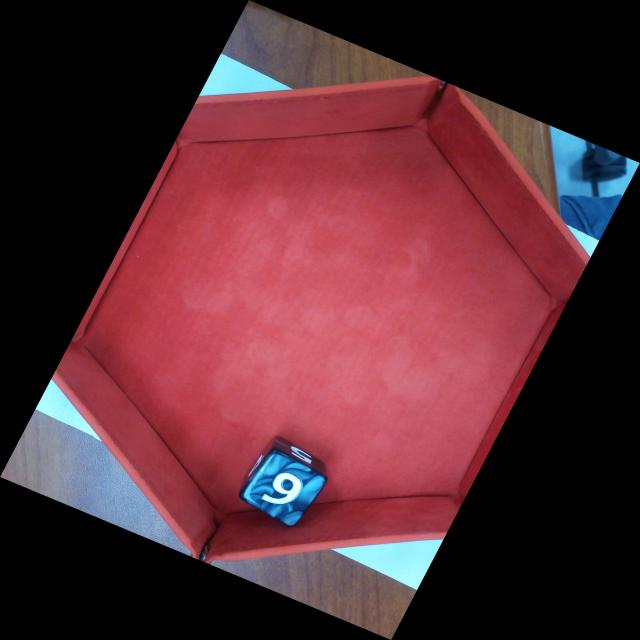dice: (246, 458, 317, 527)
